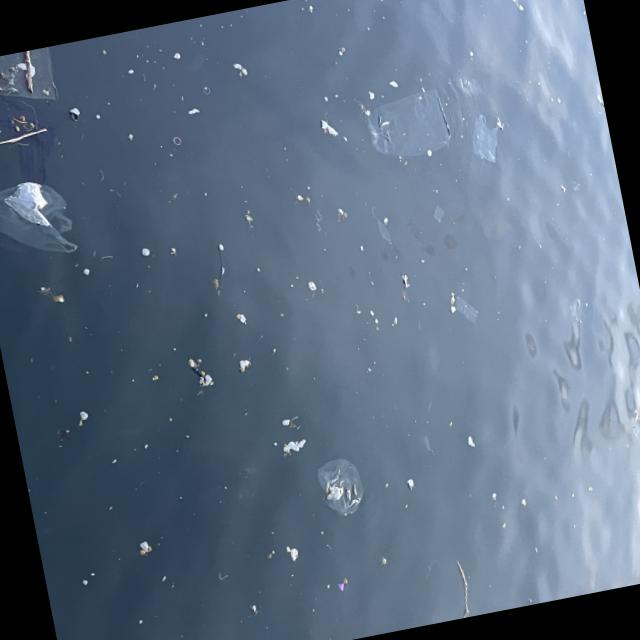foam: (320, 117, 340, 138)
plastic bottle: (0, 174, 83, 268), (362, 87, 453, 165), (0, 47, 60, 118), (313, 456, 367, 522), (466, 112, 504, 164), (452, 294, 481, 327), (374, 218, 393, 248), (432, 204, 446, 224)
unknow: (0, 82, 67, 187), (186, 356, 213, 388)
